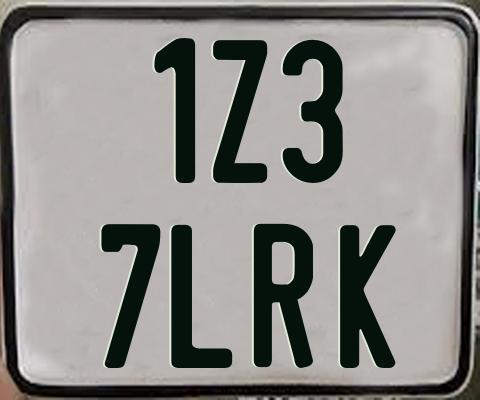1: (151, 35, 194, 181)
3: (281, 38, 344, 186)
7: (98, 222, 161, 368)
K: (339, 223, 396, 366)
L: (169, 223, 231, 367)
R: (252, 222, 313, 368)
Z: (213, 37, 271, 180)
